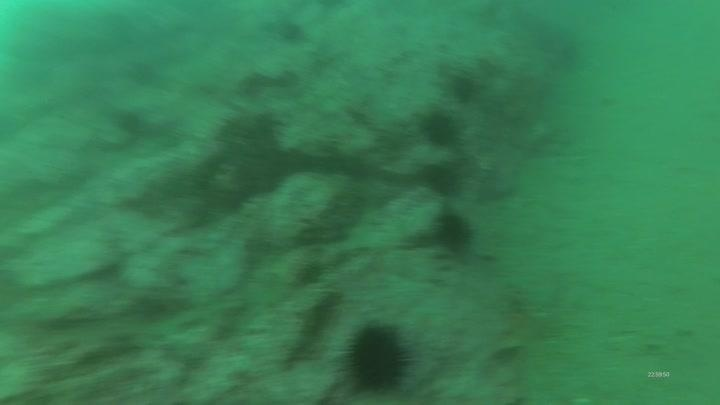echinus: (339, 319, 417, 397), (431, 207, 476, 254), (418, 108, 462, 150), (421, 161, 463, 198), (446, 70, 480, 105), (112, 107, 147, 139)
